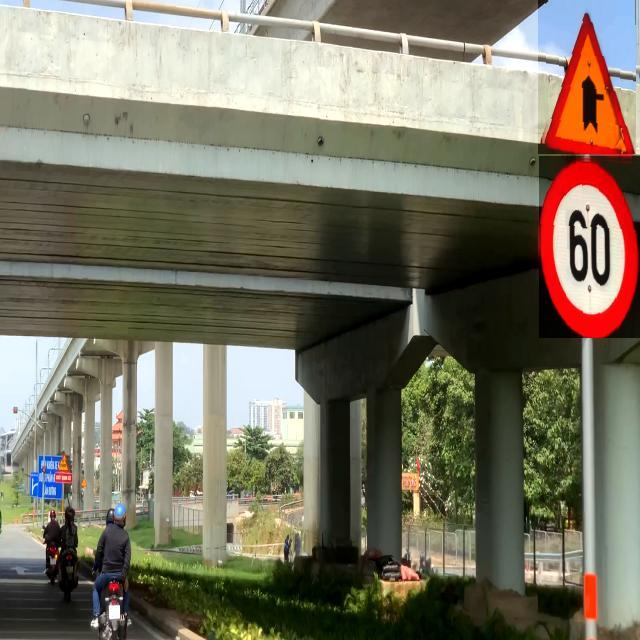P-127: (539, 156, 640, 338)
W-207b: (538, 0, 636, 154)
W-245a: (59, 453, 70, 472)
